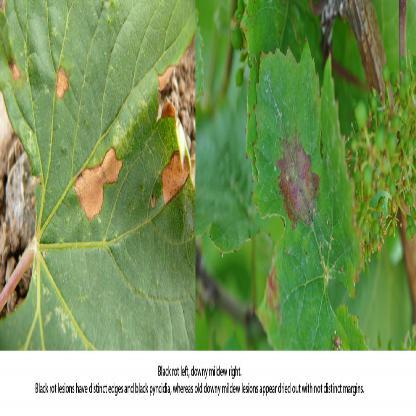grape leaf: (9, 5, 194, 351), (245, 34, 370, 350)
